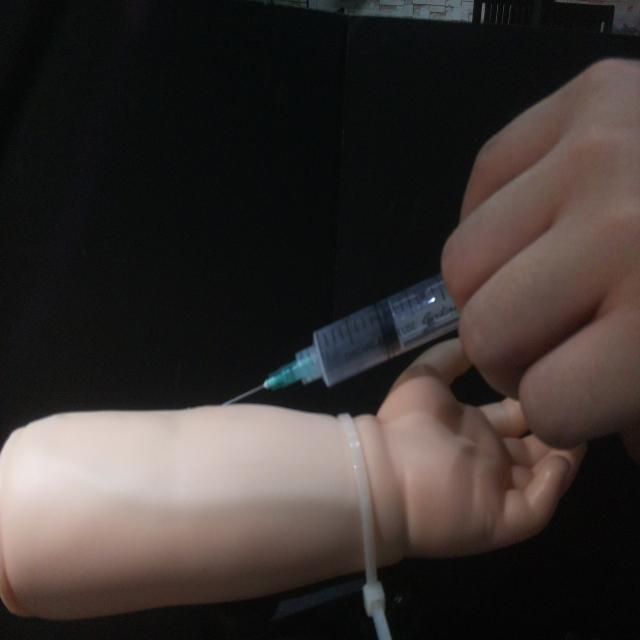19deg: (217, 268, 464, 409)
